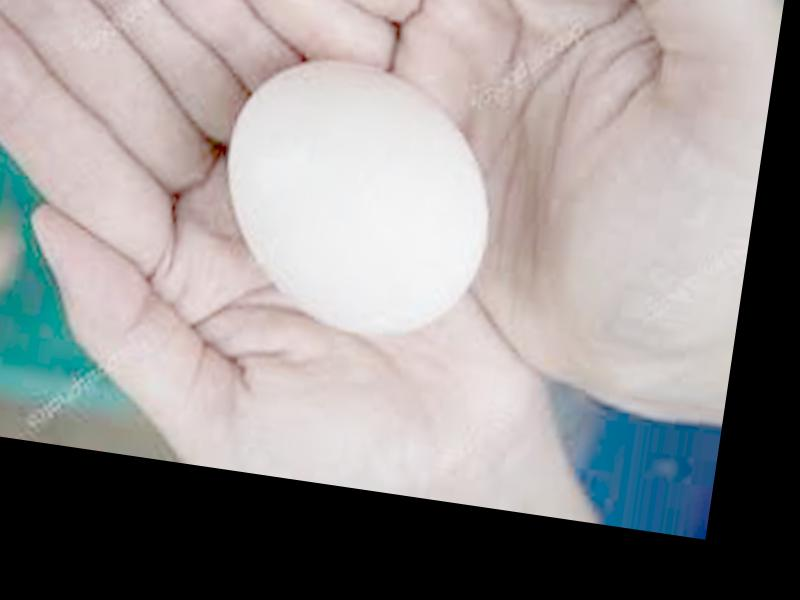Eggs: (207, 54, 505, 342)
